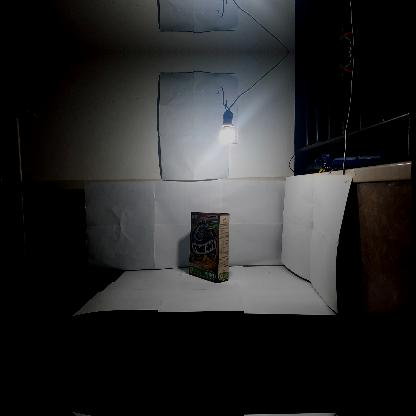Koko-Krunch: (189, 212, 229, 282)
